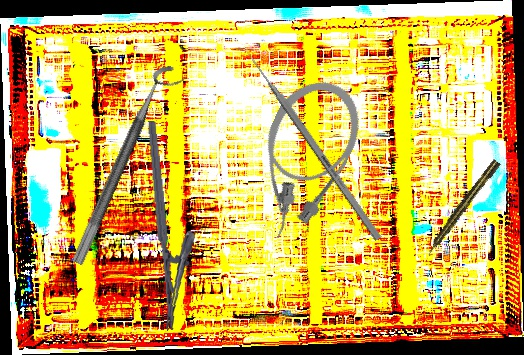Cannula: (228, 67, 375, 251)
Fixation Ring: (70, 60, 188, 274)
Handpiece: (423, 158, 502, 258)
Needle Holder: (146, 118, 204, 331)
Pusher: (240, 43, 383, 242)
